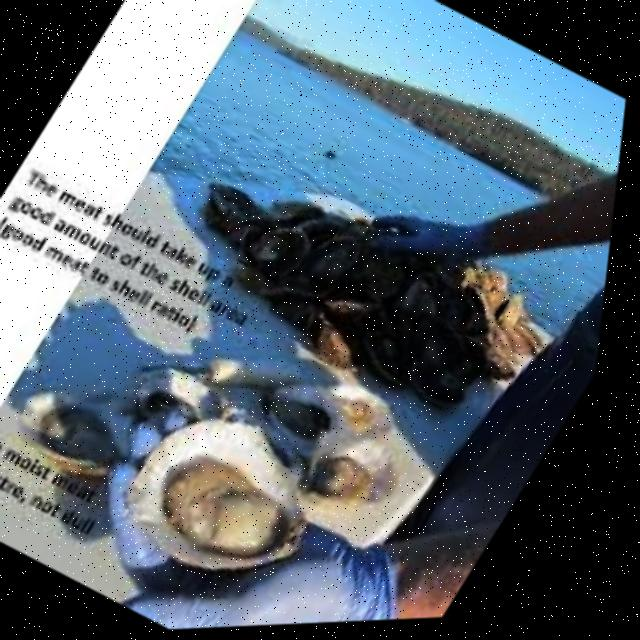Oyster-Indeterminate: (207, 207, 308, 283), (396, 313, 487, 393), (351, 309, 430, 390), (396, 268, 487, 338), (458, 319, 543, 390), (477, 272, 551, 349), (294, 227, 362, 298), (495, 304, 567, 369), (202, 183, 277, 241), (337, 252, 415, 306), (301, 306, 362, 374), (456, 264, 510, 314), (391, 270, 440, 325), (280, 212, 348, 247), (456, 286, 492, 337), (322, 297, 375, 323), (267, 199, 326, 222)
Oyster-Open: (124, 420, 305, 571), (16, 391, 135, 493), (298, 439, 391, 543), (121, 369, 240, 435), (256, 369, 339, 456), (325, 365, 395, 440)
